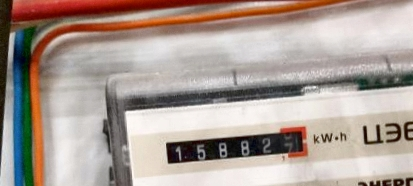1: (172, 143, 183, 161)
2: (259, 135, 271, 154)
5: (194, 142, 206, 160)
7: (282, 141, 293, 152)
8: (237, 137, 250, 156), (215, 140, 228, 157)
screen: (156, 121, 313, 172)
